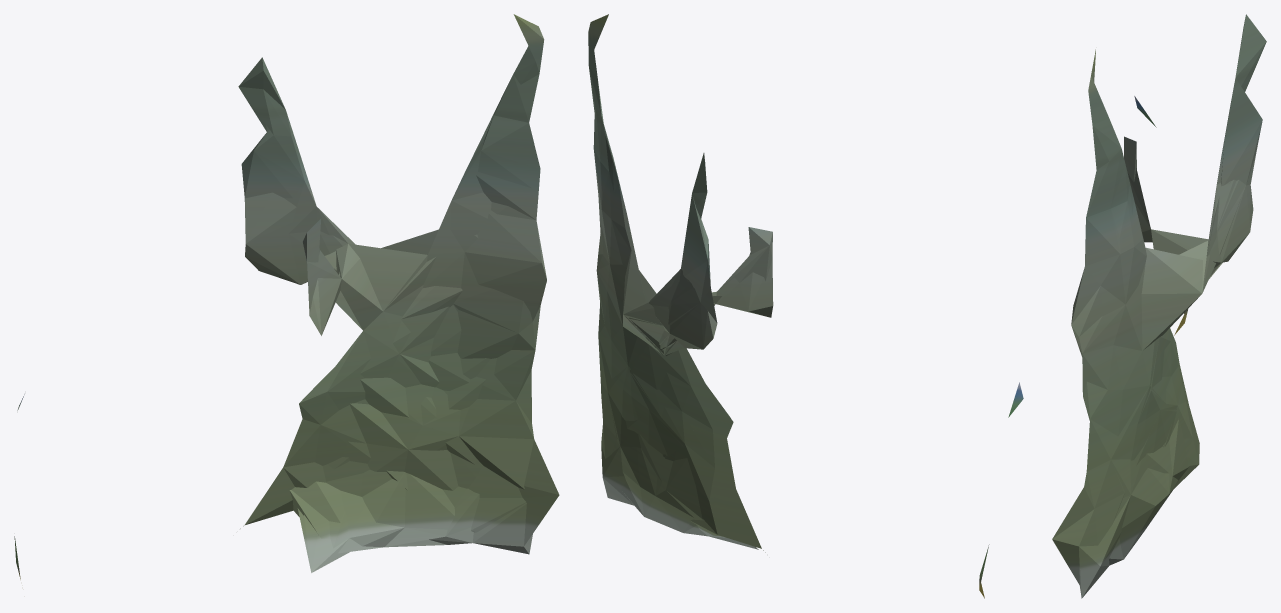
File: ToalhaPapel.obj
3 views of the same model, side by side, from view 1: azimuth 30°, elevation 25°; view 2: azimuth 150°, elevation 25°; view 3: azimuth 270°, elevation 25° (orthographic). The views are drawn at different scales.
Bounding box in the file's own units: 0.2177 × 0.2231 × 0.0794.
1 material, 1 textured.
